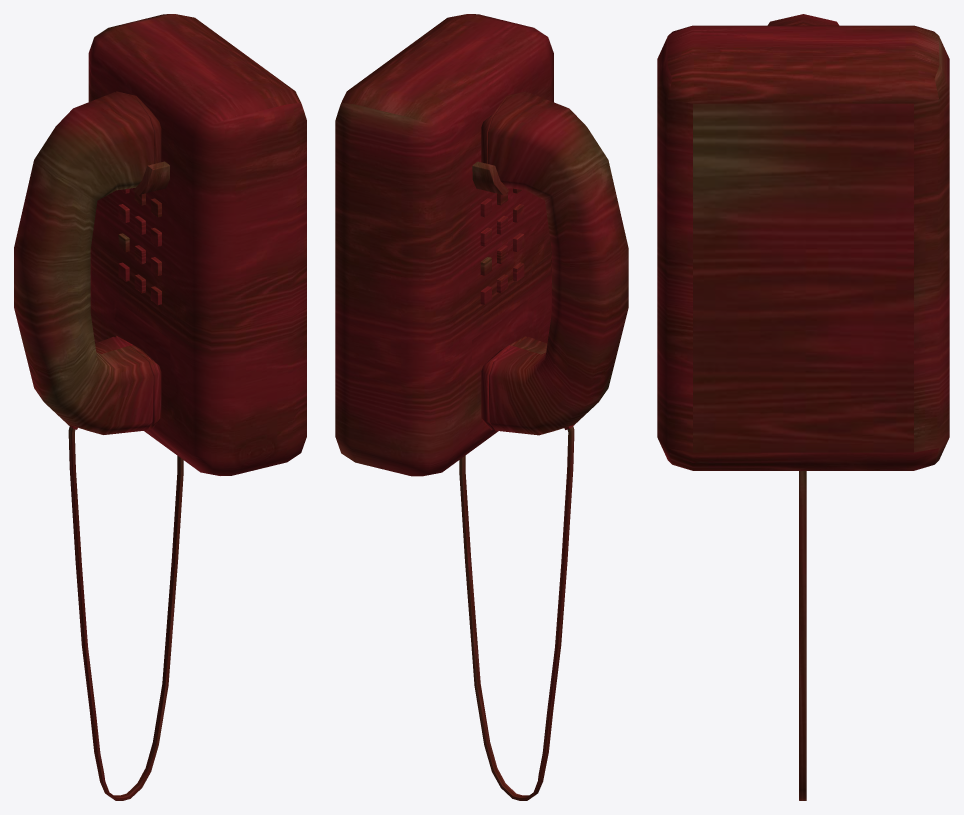
Rendered from Wallphone.fbx.
3 views of the same model, side by side, from view 1: azimuth 30°, elevation 25°; view 2: azimuth 150°, elevation 25°; view 3: azimuth 270°, elevation 25° (orthographic). The views are drawn at different scales.
Parts seen in each view (by area): view 1: pCube27; view 2: pCube27; view 3: pCube27.
Boxes of the visible parts, box(x1,y1,x2,y2) form: pCube27: box(14, 14, 306, 800); pCube27: box(335, 14, 628, 800); pCube27: box(657, 14, 949, 800).
Bounding box in the file's own units: 12.37 × 37.06 × 12.32.
